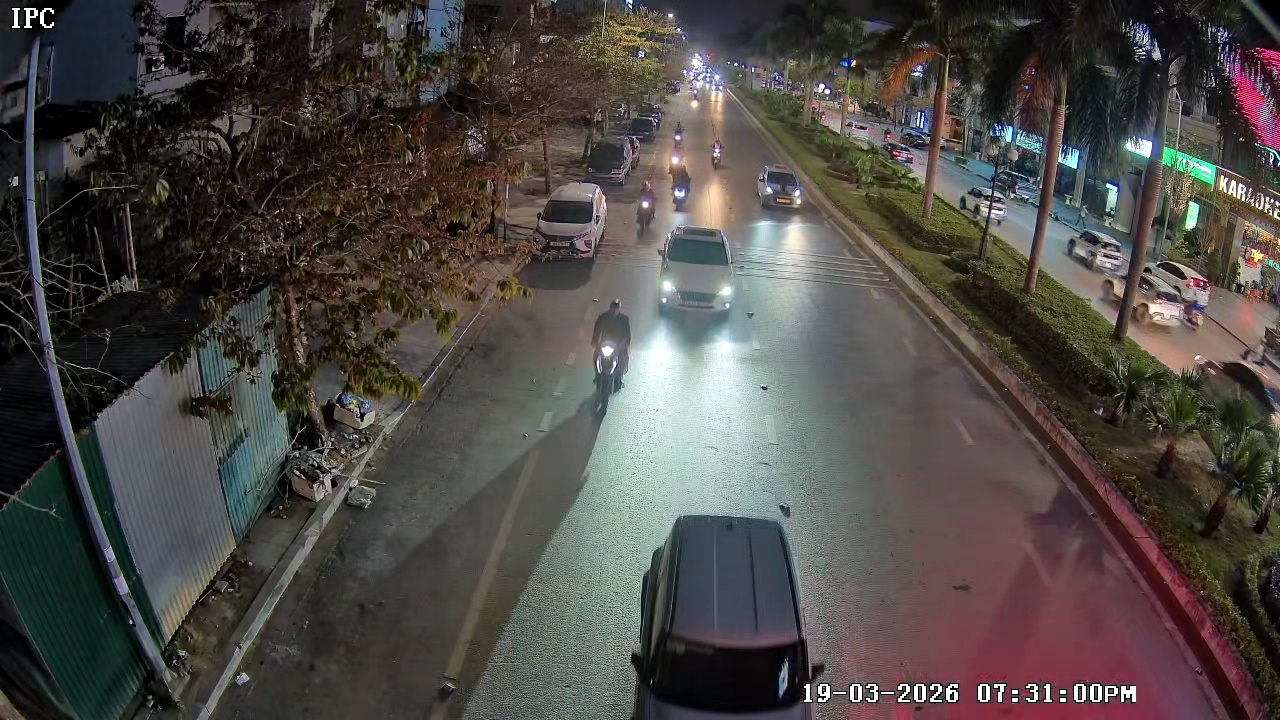car: (626, 508, 837, 719), (655, 221, 739, 321), (532, 180, 609, 270), (581, 132, 638, 189), (754, 161, 803, 213)
motorbike: (589, 296, 635, 402), (668, 155, 693, 212), (634, 179, 657, 240), (710, 132, 725, 171), (673, 118, 687, 153)
